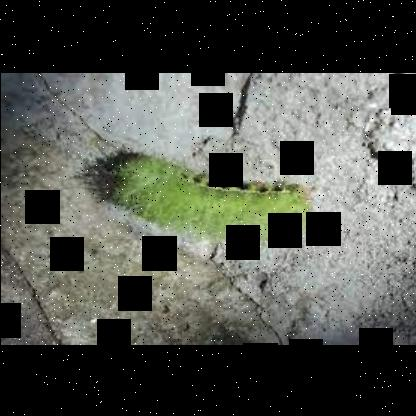oruga: (94, 155, 314, 237)
